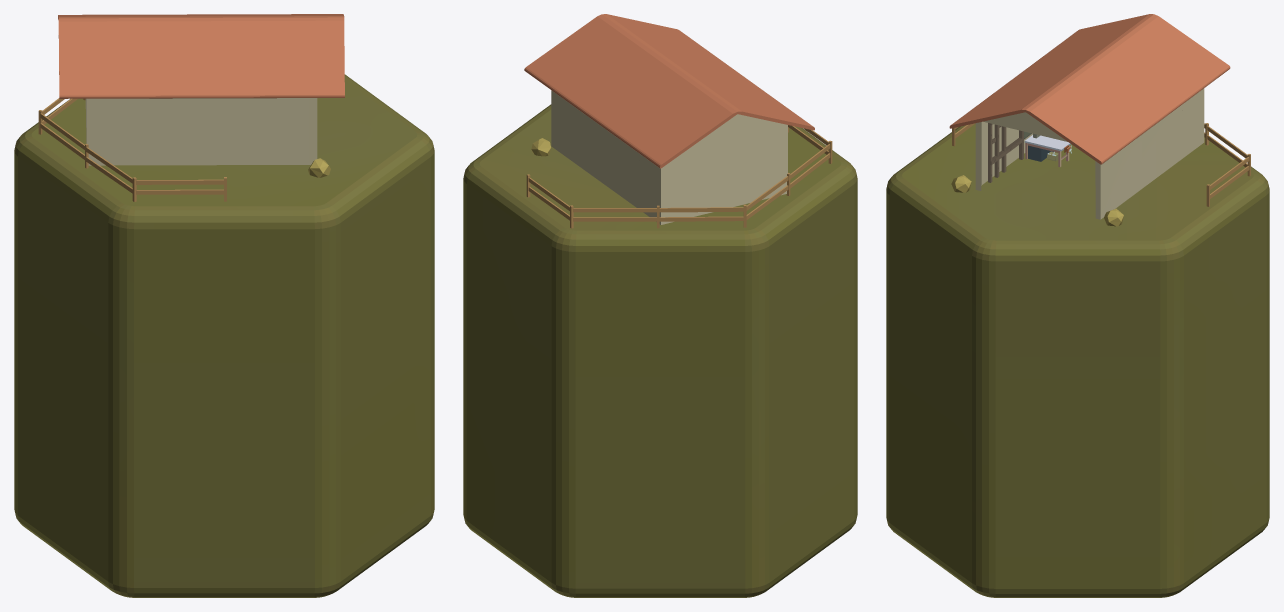
Rendered from Hex-champ2.glb.
The picture shows the model from 3 angles, left to right: view 1: azimuth 30°, elevation 25°; view 2: azimuth 150°, elevation 25°; view 3: azimuth 270°, elevation 25°; orthographic projection. The views are drawn at different scales.
Parts seen in each view (by area): view 1: Cylinder, Cube.092_Material.001_0, Cube.098_Material.001_0; view 2: Cylinder, Cube.092_Material.001_0, Cube.098_Material.001_0; view 3: Cylinder, Cube.092_Material.001_0, Cube.098_Material.001_0, Wood.001, Interior.
Boxes of the visible parts, <box> form: Cylinder: <box>14,74,434,597</box>; Cube.092_Material.001_0: <box>58,14,344,165</box>; Cube.098_Material.001_0: <box>38,98,226,201</box>; Cylinder: <box>463,104,857,597</box>; Cube.092_Material.001_0: <box>524,14,814,224</box>; Cube.098_Material.001_0: <box>526,125,832,228</box>; Cylinder: <box>886,124,1269,597</box>; Cube.092_Material.001_0: <box>949,14,1230,219</box>; Cube.098_Material.001_0: <box>952,123,1250,206</box>; Wood.001: <box>988,123,1031,182</box>; Interior: <box>1024,133,1071,166</box>.
Bounding box in the file's own units: 1.75 × 2.6 × 1.95.
Materials: 7 (6 with a texture image).
